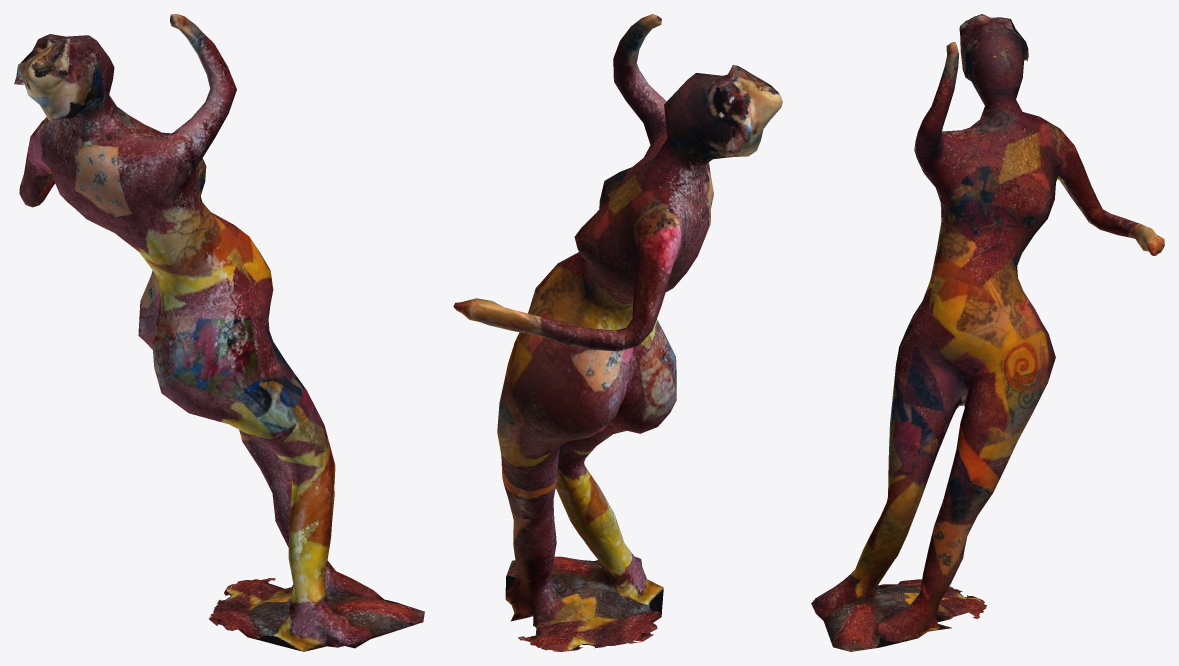
Rendered from sculpture2.glb.
The picture shows the model from 3 angles, left to right: view 1: azimuth 30°, elevation 25°; view 2: azimuth 150°, elevation 25°; view 3: azimuth 270°, elevation 25°; orthographic projection. The views are drawn at different scales.
Parts seen in each view (by area): view 1: tripo_node_c011ab97-22ea-412e-8f4c-a8dd62c98e47; view 2: tripo_node_c011ab97-22ea-412e-8f4c-a8dd62c98e47; view 3: tripo_node_c011ab97-22ea-412e-8f4c-a8dd62c98e47.
Boxes of the visible parts, left/top/right/bottom form: tripo_node_c011ab97-22ea-412e-8f4c-a8dd62c98e47: left=14, top=14, right=424, bottom=651; tripo_node_c011ab97-22ea-412e-8f4c-a8dd62c98e47: left=453, top=14, right=782, bottom=651; tripo_node_c011ab97-22ea-412e-8f4c-a8dd62c98e47: left=811, top=14, right=1164, bottom=651.
Bounding box in the file's own units: 0.5639 × 0.9969 × 0.6053.
Materials: 1 (1 with a texture image).
